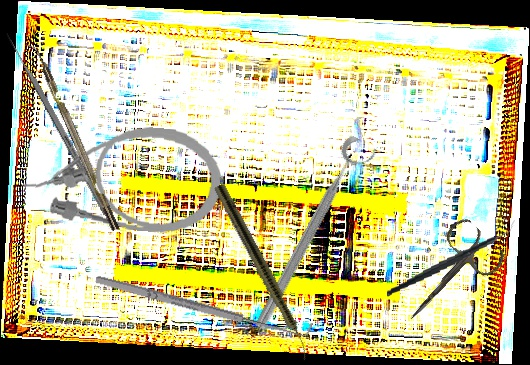Cannula: (19, 116, 225, 238)
Chopper: (22, 39, 120, 236), (379, 218, 523, 298)
Fixation Ring: (248, 133, 381, 339)
Handpiece: (211, 182, 317, 363)
Hook Surgical: (94, 265, 313, 344)
Iris Scissors: (386, 214, 510, 340)
Pusher: (4, 31, 110, 216)
